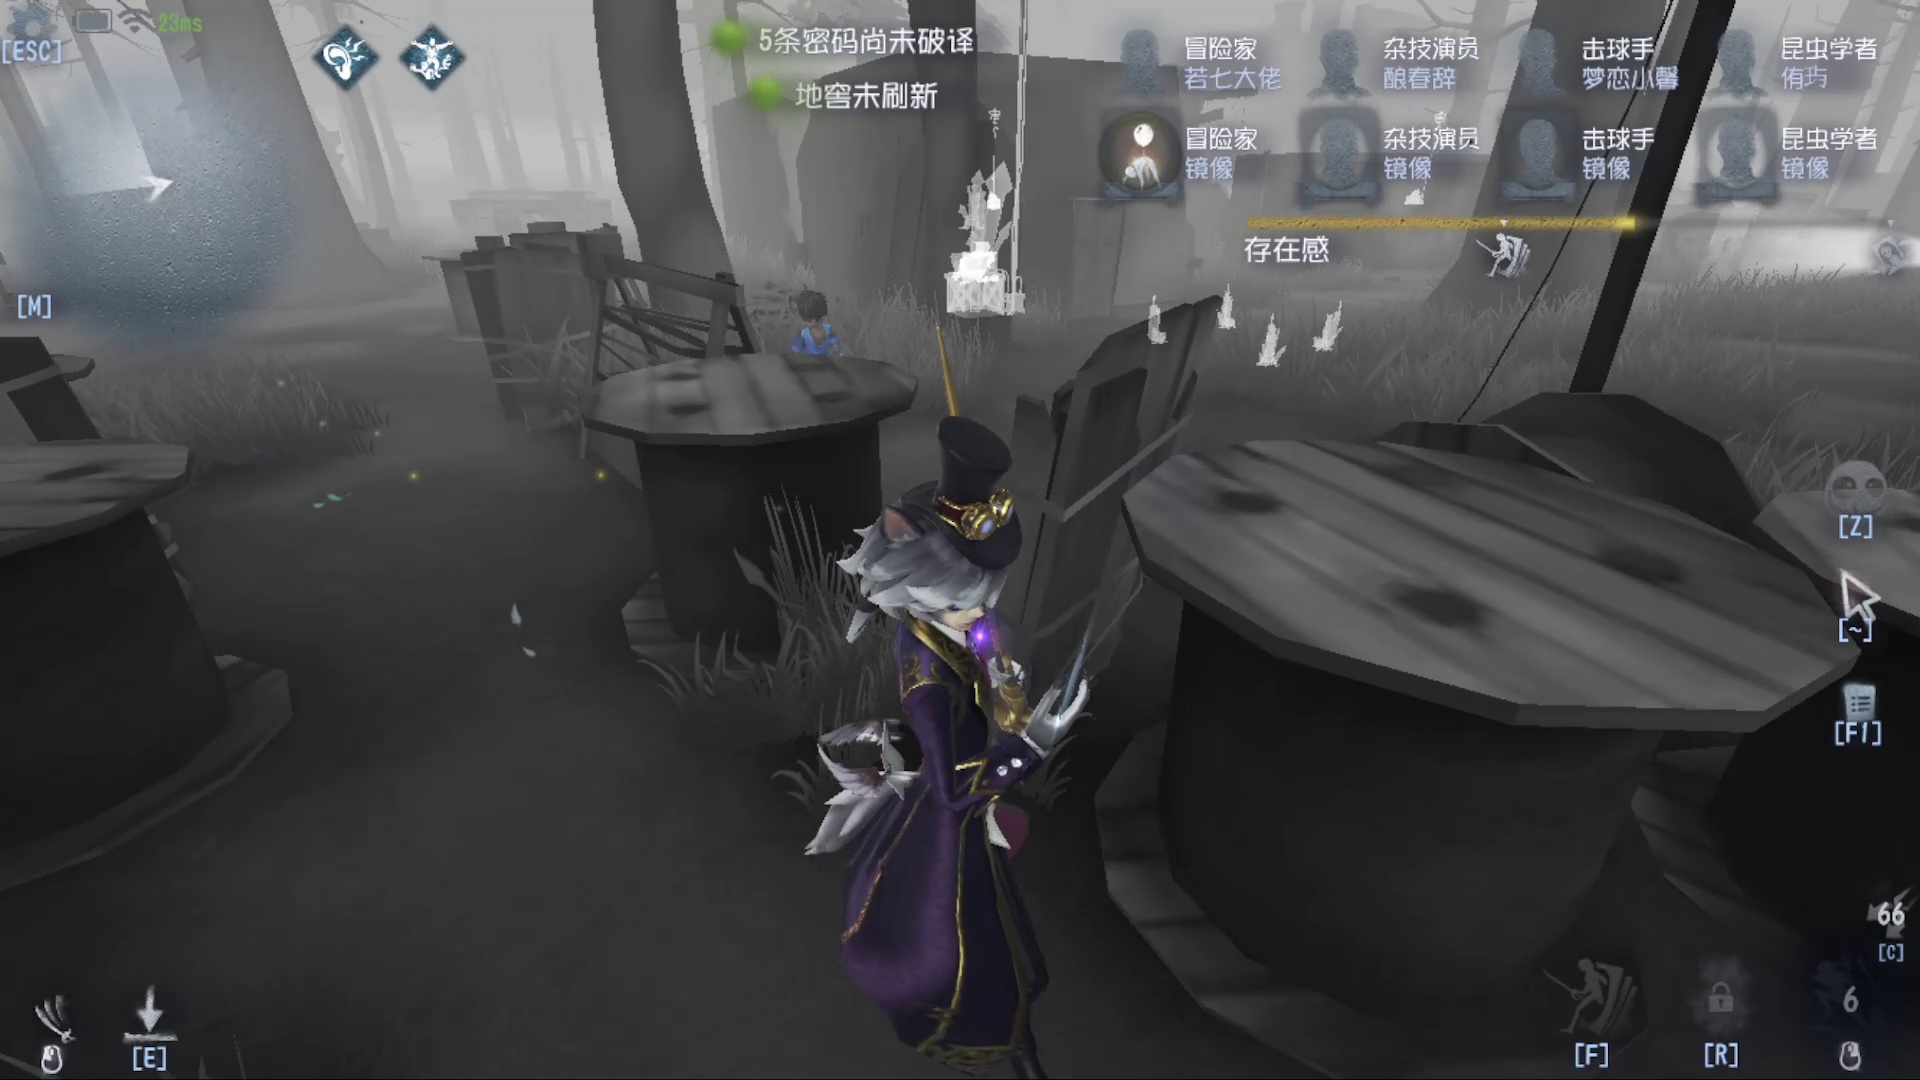求生者: (789, 280, 857, 363)
狂欢之椅: (959, 170, 1027, 332), (1309, 293, 1352, 360), (1145, 289, 1185, 352), (1261, 311, 1284, 373)
